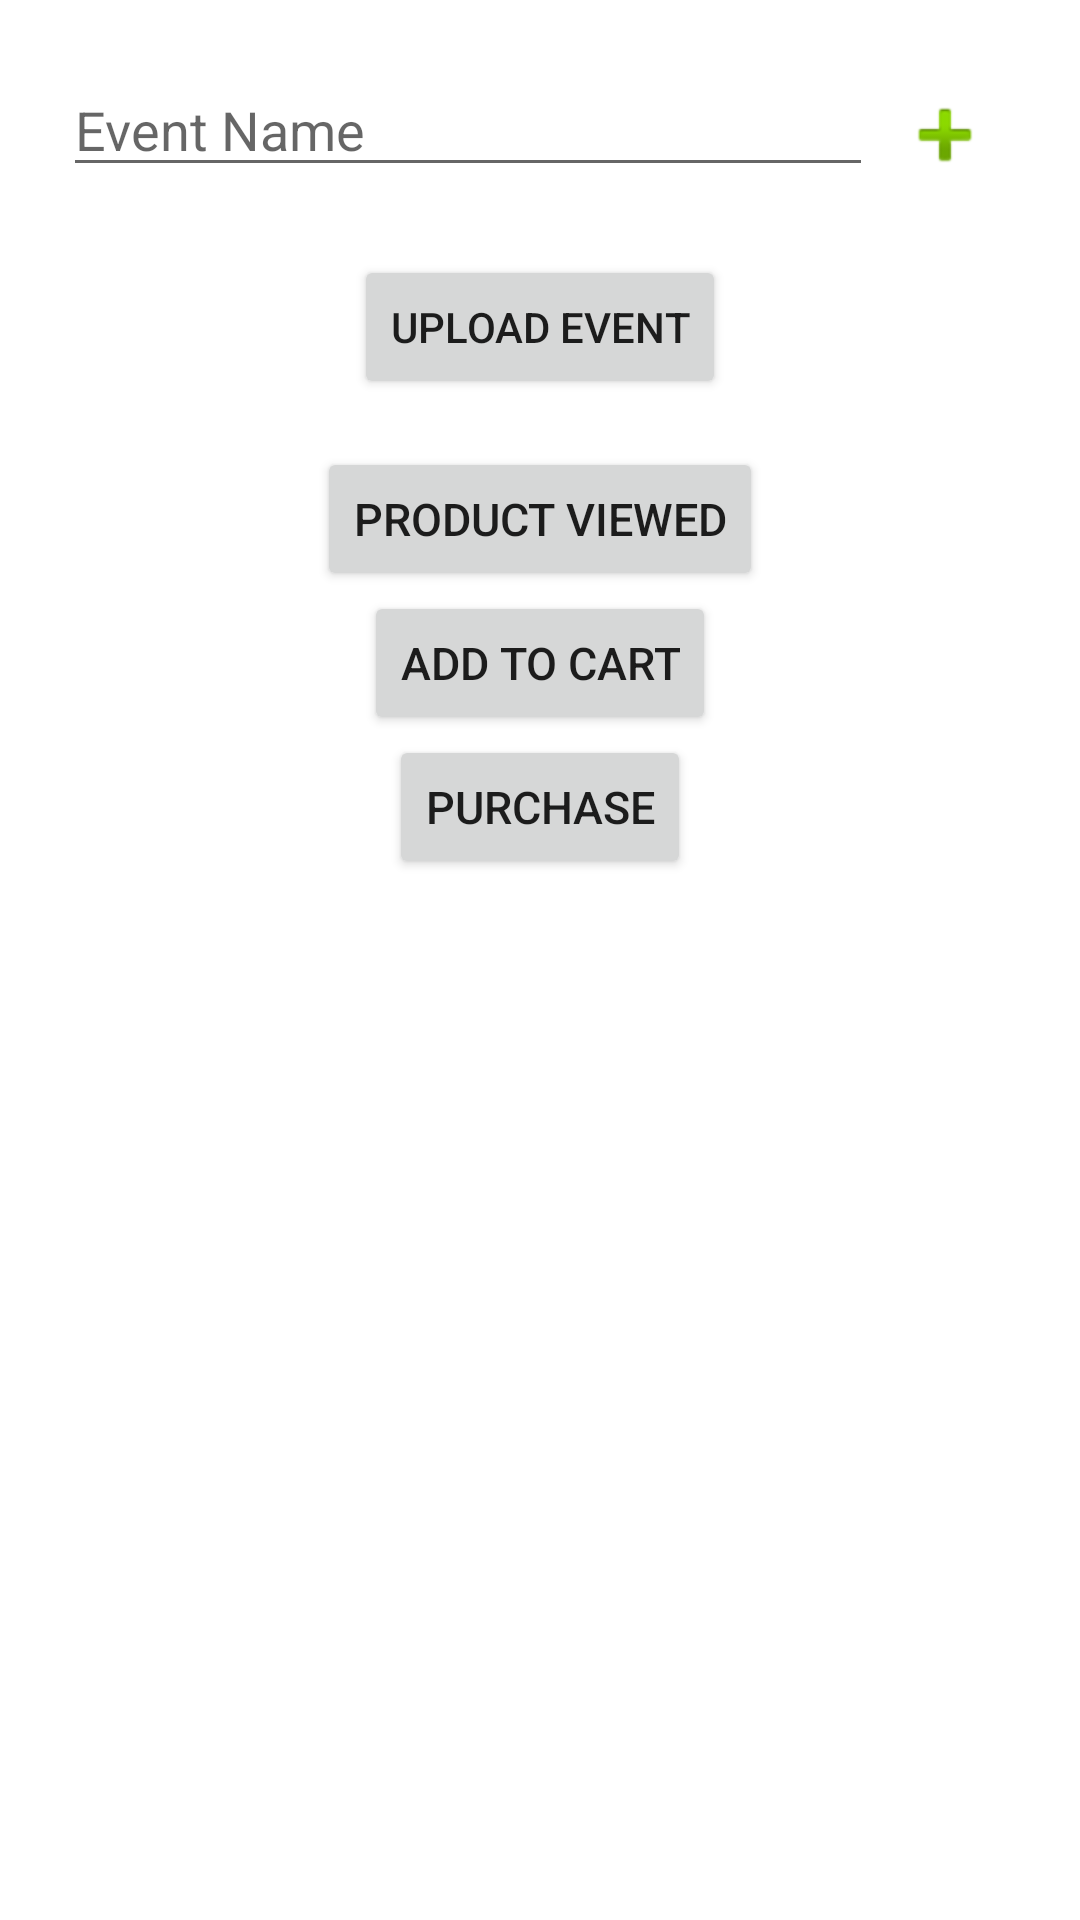

Screen size 1080px×1920px. Icon name, then its center in pixels as (x,y):
add: (945,135)
